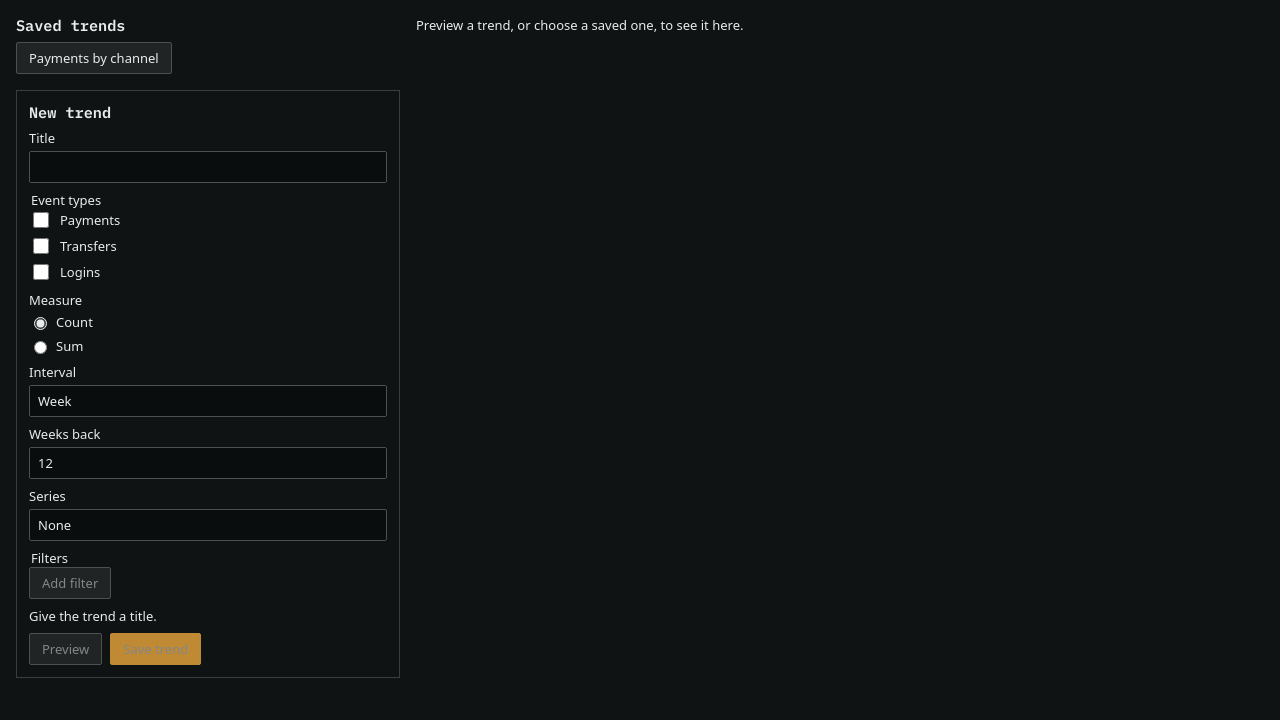
Scenario: a saved trend › is not offered to a pack to someone who may not assemble one
This screenshot has width=1280, height=720.
Click the button "Payments by channel": x=94, y=58 [16, 42, 172, 74]
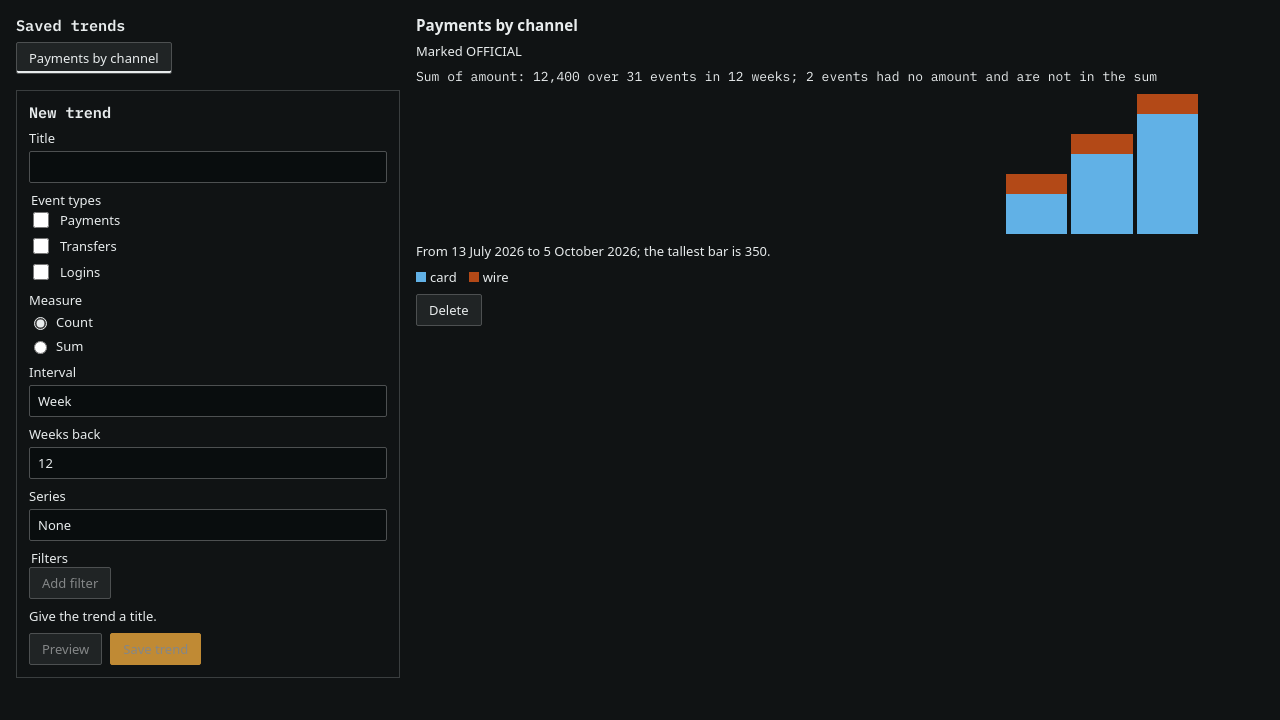
Result: the picture named "Payments by channel" is shown at [1006, 94, 1198, 234]
